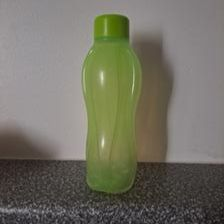bottle: (80, 11, 144, 195)
